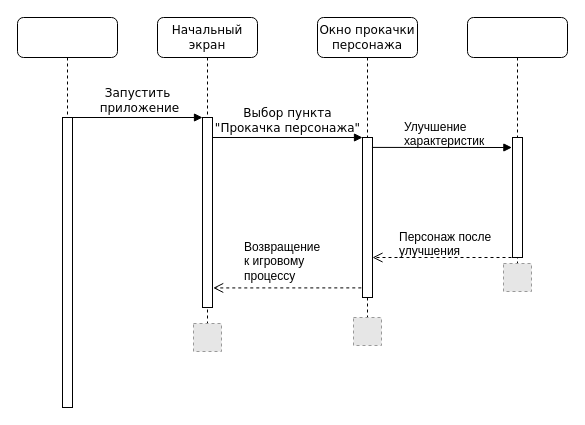
Some shapes in this 585 by 425 pixel diagram are drawn without their labels. Grey dashed boxes stand in for pictures. The box of each missing label's shape, as (x1, y1, x2, y2) in pixels:
Игровой менеджер: (466, 16, 568, 278)
Пользователь: (16, 16, 118, 408)
